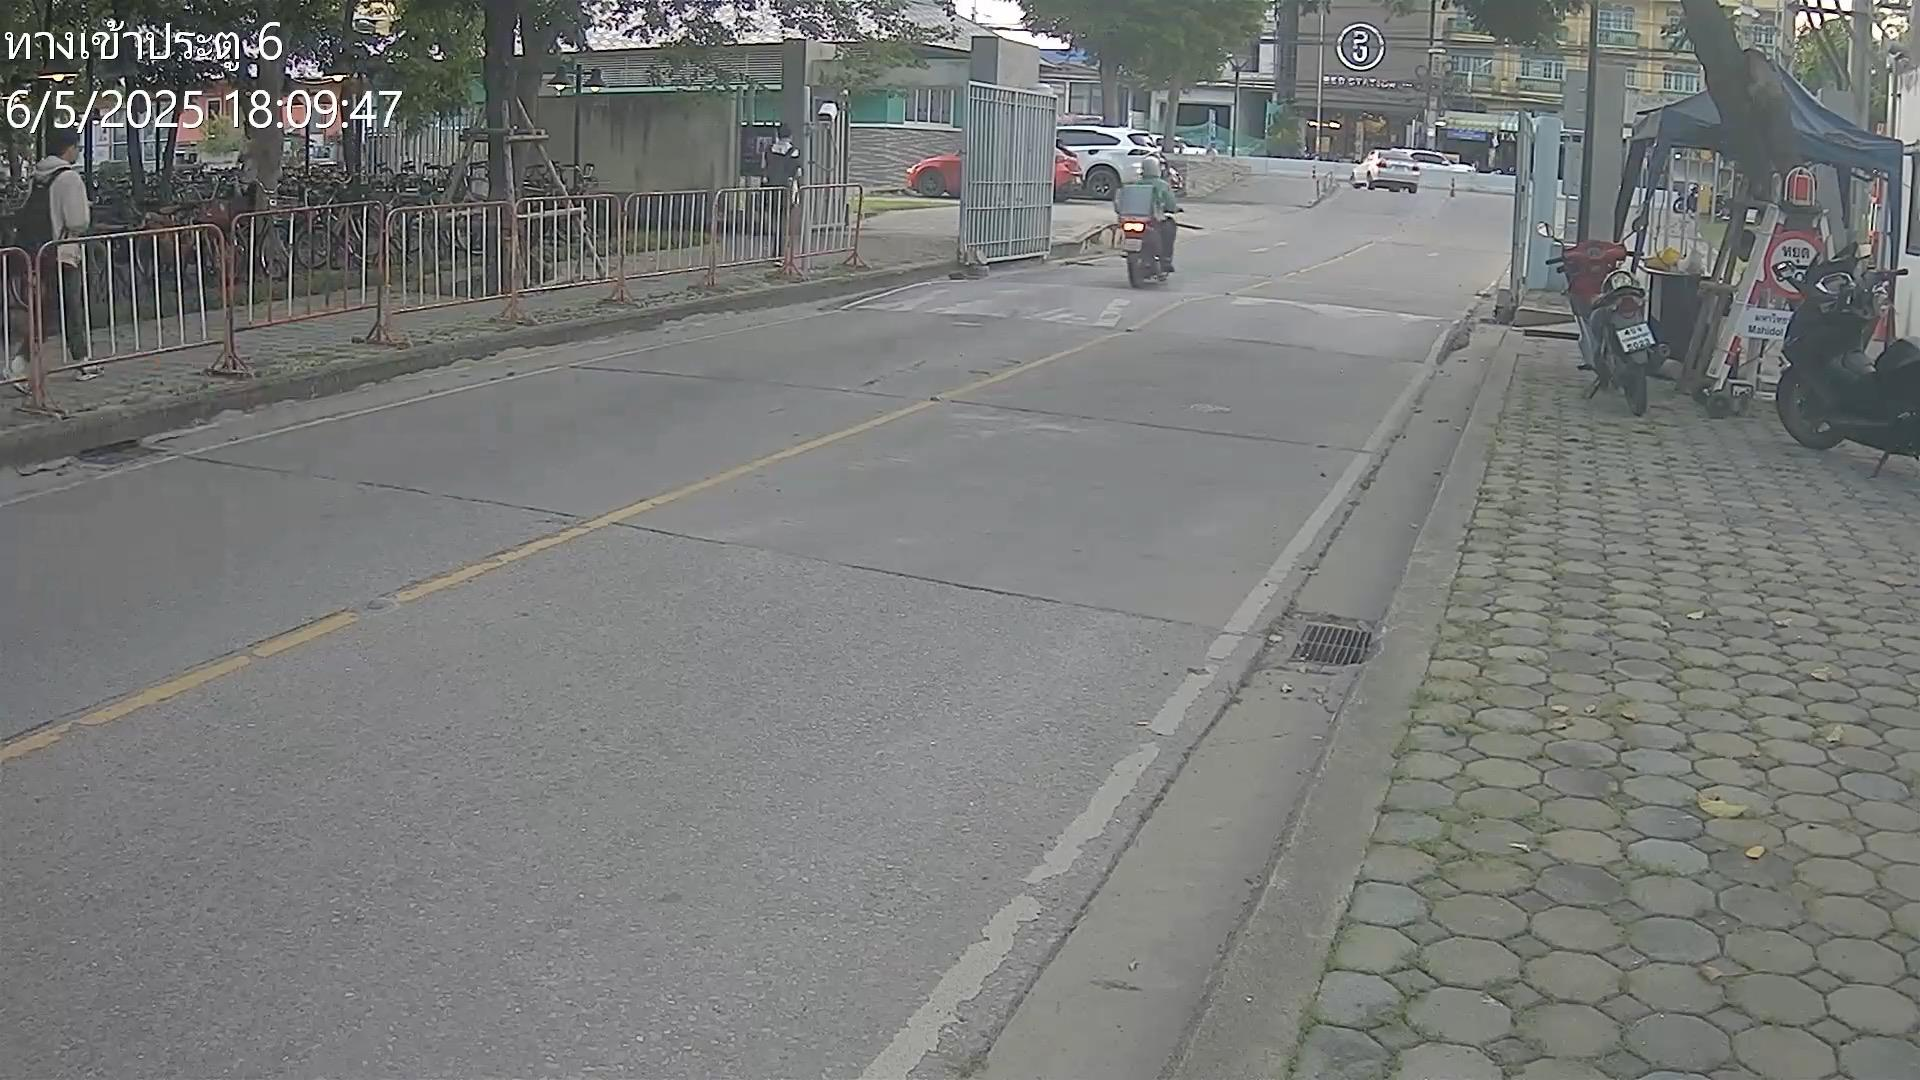With-Helmet: (1142, 156, 1162, 179)
